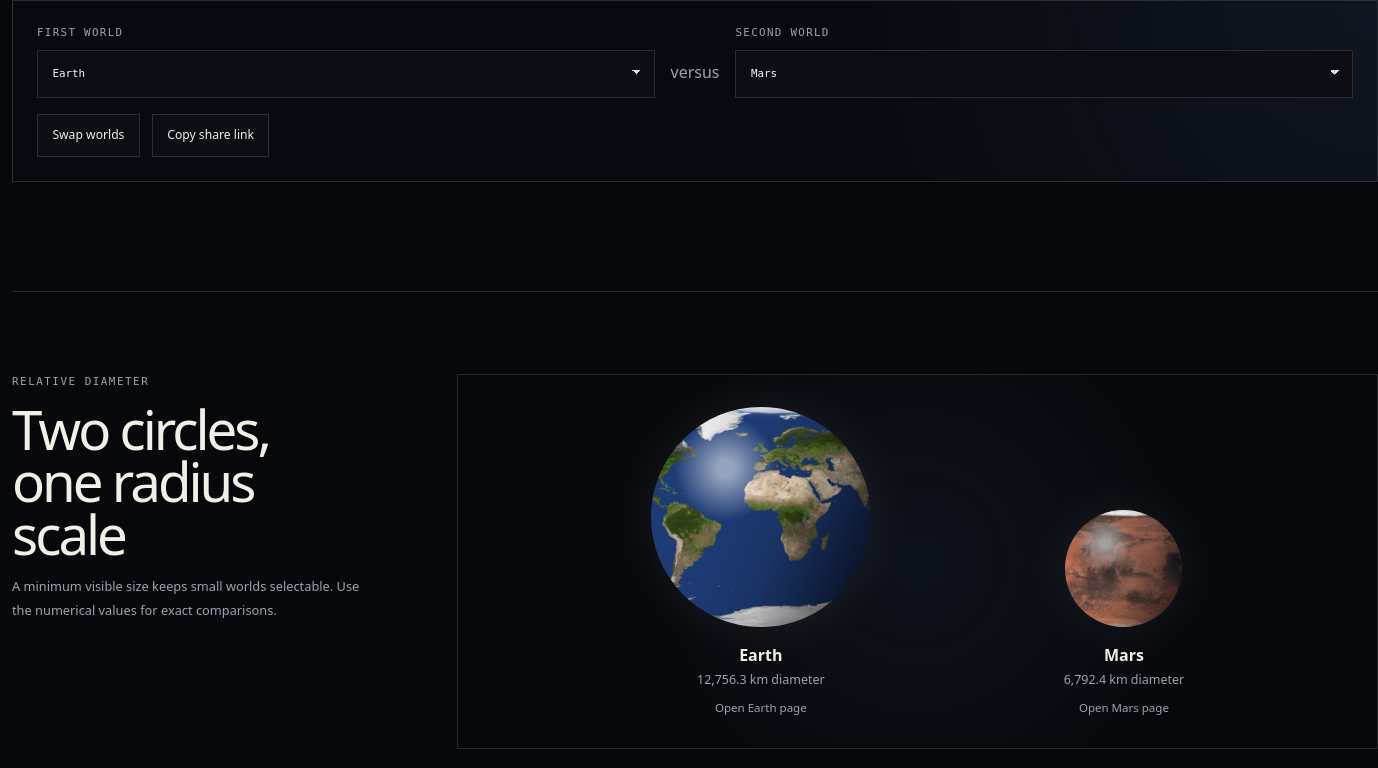
CompareExperience › copies the current comparison address with an announced result
The image size is (1378, 768).
Click the button "Copy share link" at (211, 135), box [152,114,269,156]
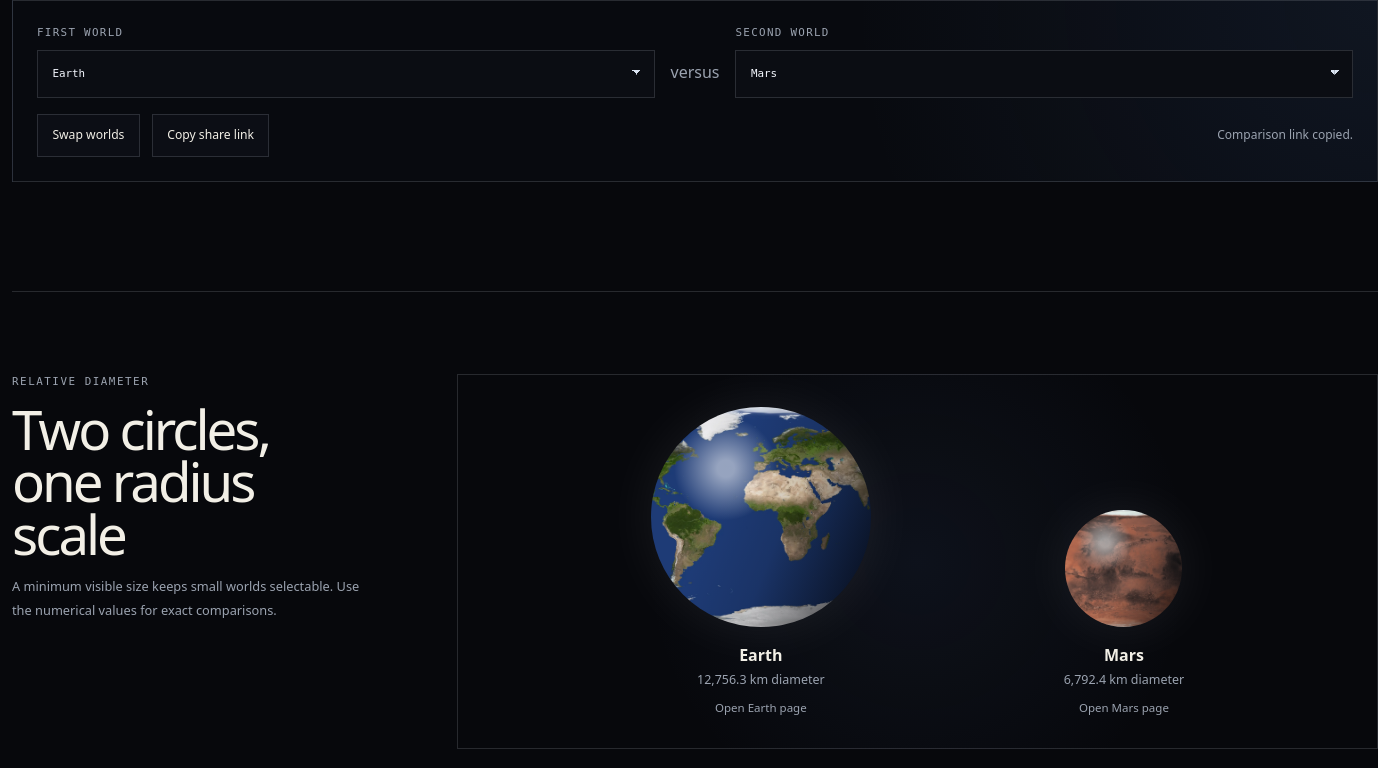
Now the text "Comparison link copied." is shown, box [1217,126,1353,145]
